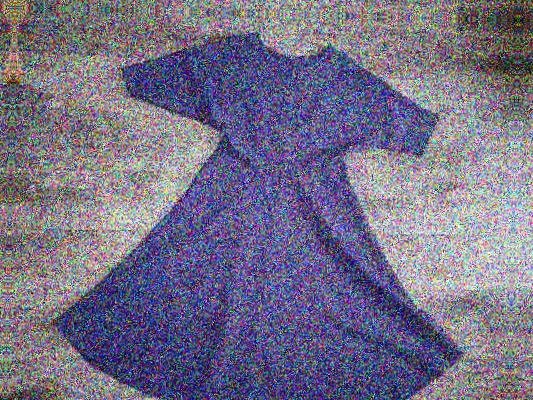Dress: (46, 22, 480, 400), (57, 0, 490, 5)
